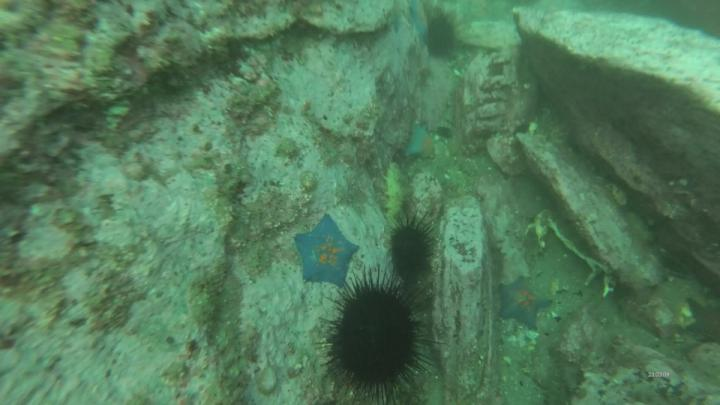echinus: (336, 289, 419, 388), (391, 224, 431, 278), (429, 17, 456, 58)
holothurian: (383, 164, 407, 229)
starfish: (296, 215, 360, 288), (500, 277, 551, 329), (408, 128, 437, 159)
